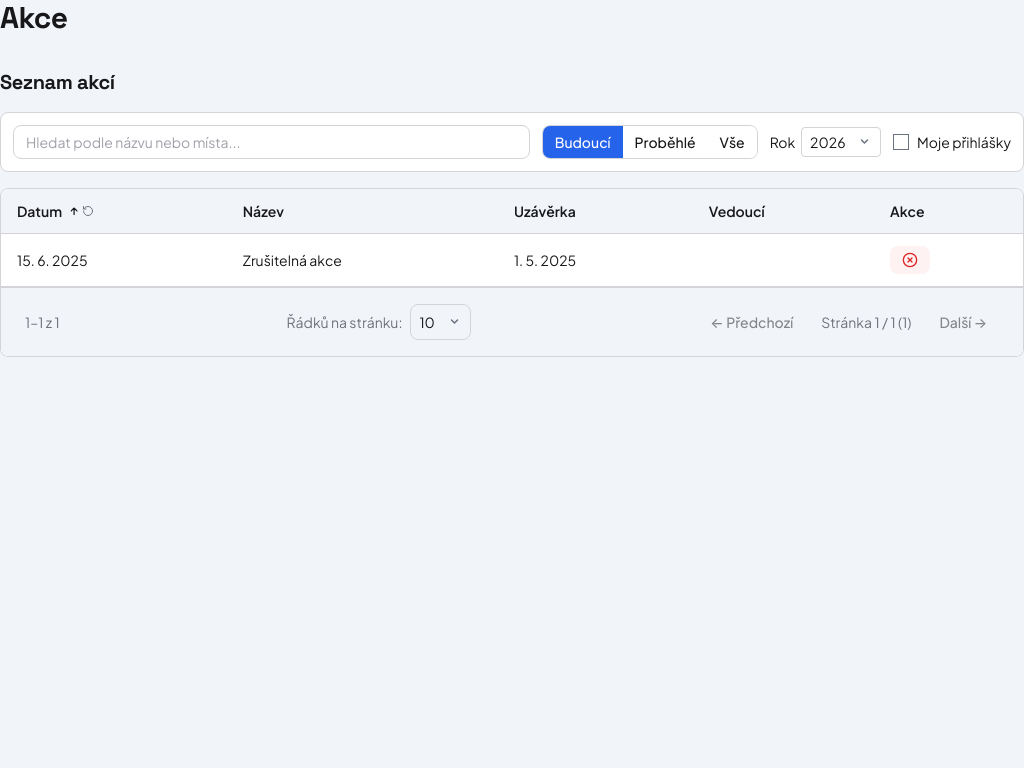
EventsPage › cancel event action modal › shows localized dialog title when backend does not send template.title
Click the button titled "Zrušit akci" at x=910, y=260, box [890,246,930,274]
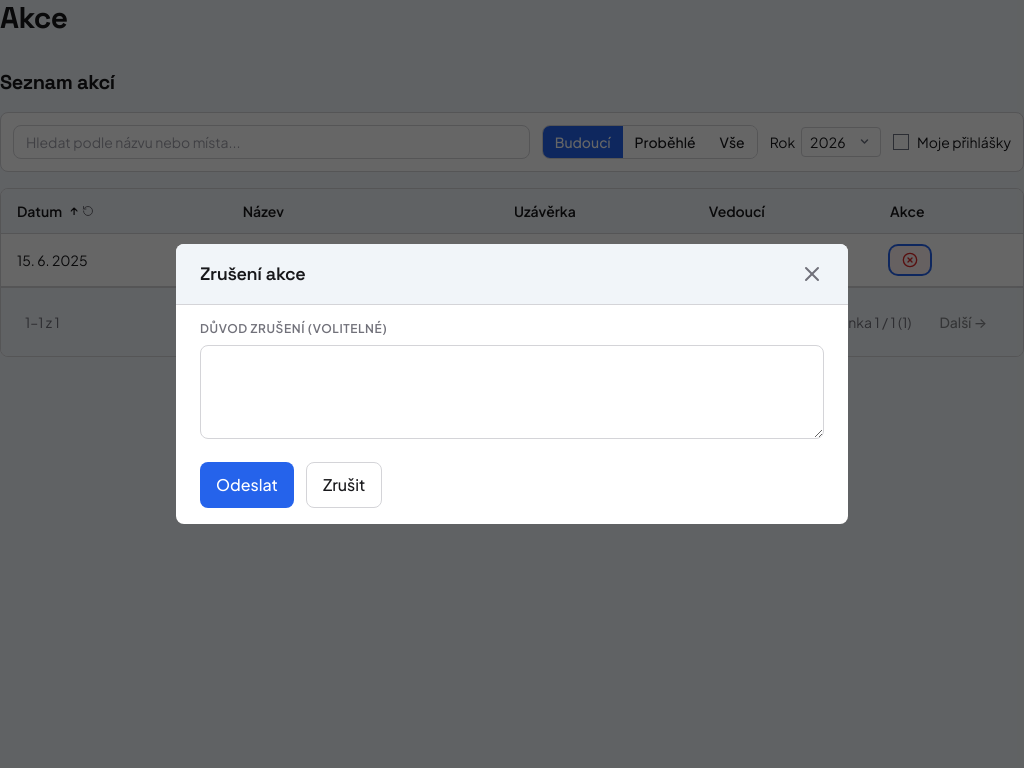
expect the heading with test id "modal-title" reads "Zrušení akce": met, box [200,262,305,285]
